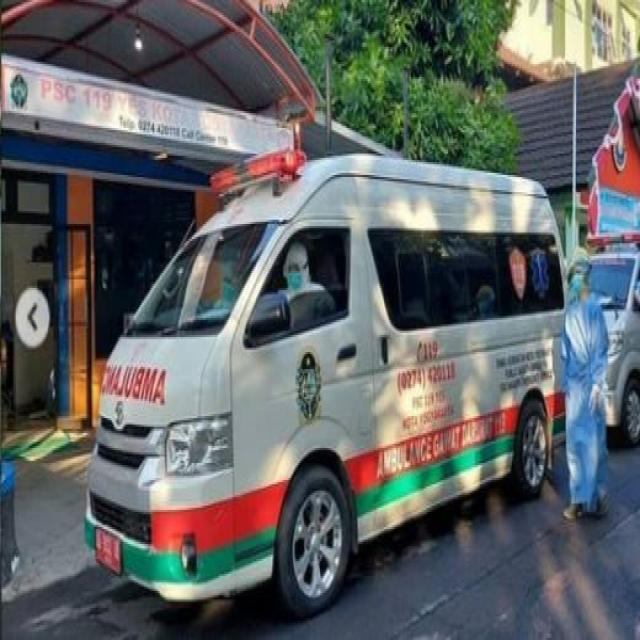ambulance: (82, 147, 567, 622)
